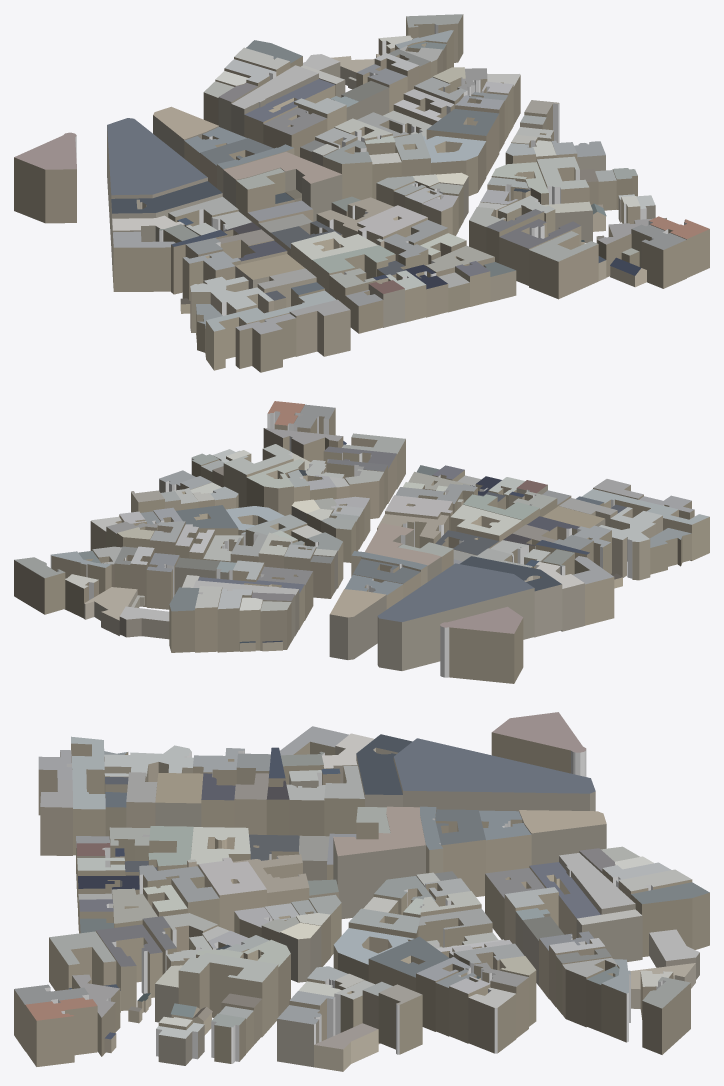
3 views of the same model, one above another, from view 1: azimuth 30°, elevation 25°; view 2: azimuth 150°, elevation 25°; view 3: azimuth 270°, elevation 25° (orthographic). The views are drawn at different scales.
Visible parts, largest first — view 1: tuile; view 2: tuile; view 3: tuile.
Boxes of the visible parts, x1=… form: tuile: x1=14, y1=14, x2=709, y2=372; tuile: x1=14, y1=401, x2=709, y2=683; tuile: x1=14, y1=712, x2=709, y2=1071.
Bounding box in the file's own units: 273 × 34.9 × 278.
